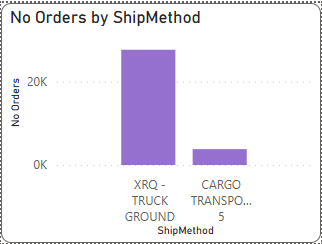

What the dashboard file says about the page in this screenshot:
{"tool":"powerbi","page":{"name":"ToolTip","canvas":[320,240],"ordinal":1},"visuals":[{"type":"columnChart","fields":{"Y":["OrderDetail.No Orders"],"Category":["ShipMethod.ShipMethod"]},"box":[0,0,320,240],"z":0}]}

Visuals, with their boxes in screenshot pixels (x1, y1, x2, y2), scaled from the page's 320x240 canvas onto the 322x244 screenshot:
columnChart - OrderDetail.No Orders x ShipMethod.ShipMethod: {"x1": 0, "y1": 0, "x2": 321, "y2": 243}
